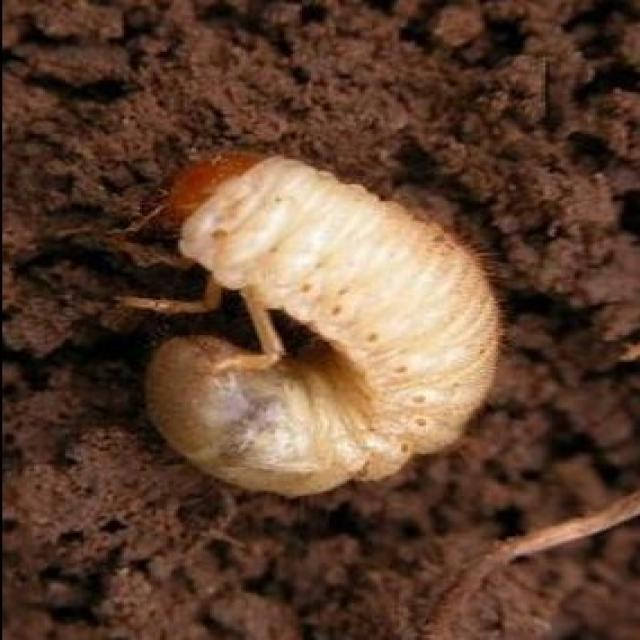grub: (134, 151, 508, 501)
